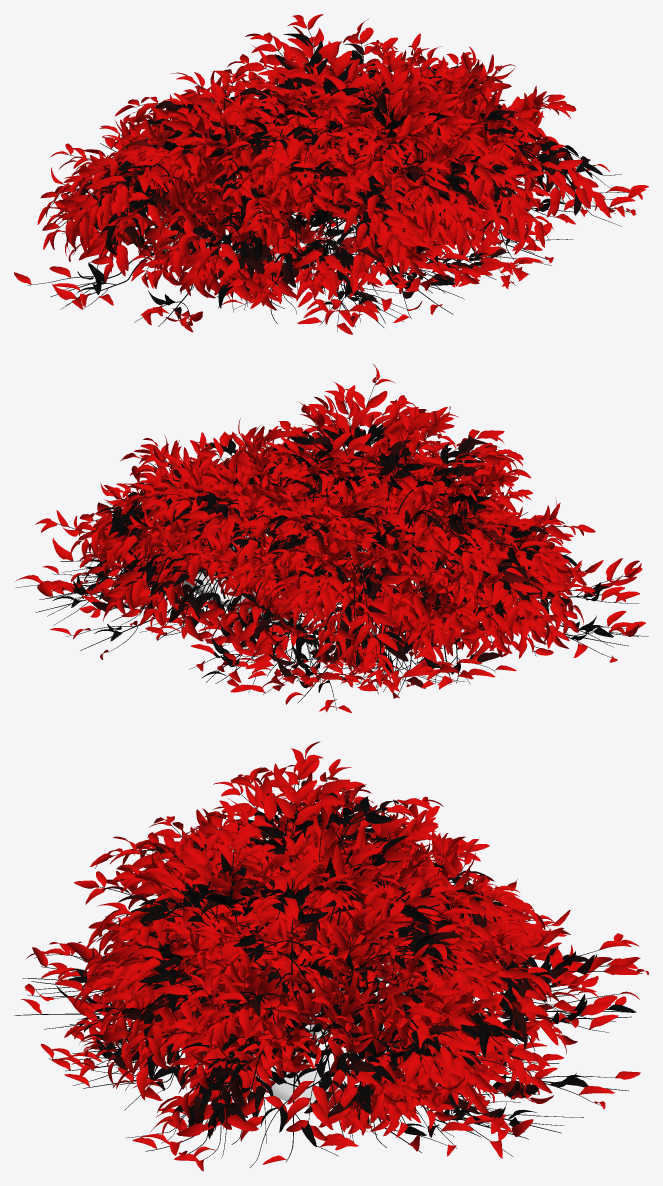
File: NewPlantResized_02.fbx
The picture shows the model from 3 angles, top to bottom: view 1: azimuth 30°, elevation 25°; view 2: azimuth 150°, elevation 25°; view 3: azimuth 270°, elevation 25°; orthographic projection. The views are drawn at different scales.
Visible parts, largest first — view 1: Pyrrosia_Lingua_Zone02; view 2: Pyrrosia_Lingua_Zone02; view 3: Pyrrosia_Lingua_Zone02.
Part boxes in pixels (left/top/right/bottom): Pyrrosia_Lingua_Zone02: left=14, top=14, right=648, bottom=334; Pyrrosia_Lingua_Zone02: left=15, top=364, right=648, bottom=712; Pyrrosia_Lingua_Zone02: left=14, top=741, right=648, bottom=1171.
Bounding box in the file's own units: 682 × 194 × 566.
